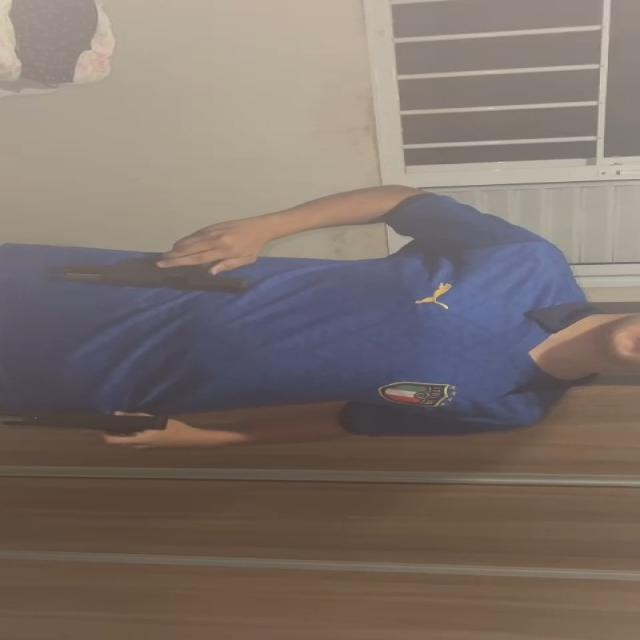gun: (48, 258, 247, 294)
